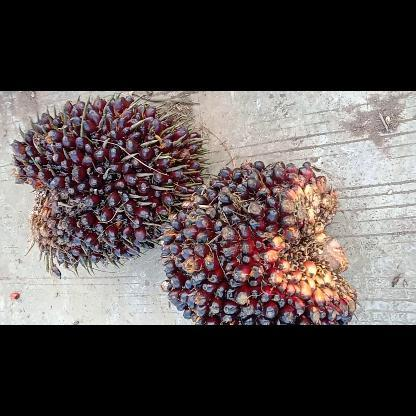TBS mentah: (9, 92, 203, 274), (158, 160, 356, 324)
